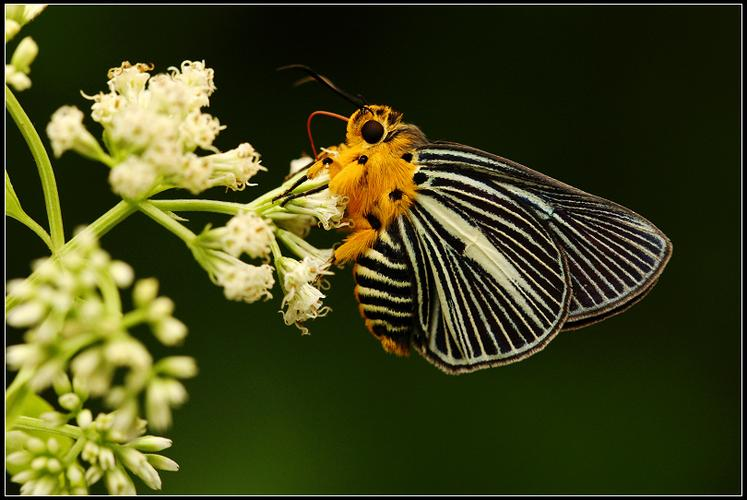Hesperiidae: (278, 62, 676, 377)
